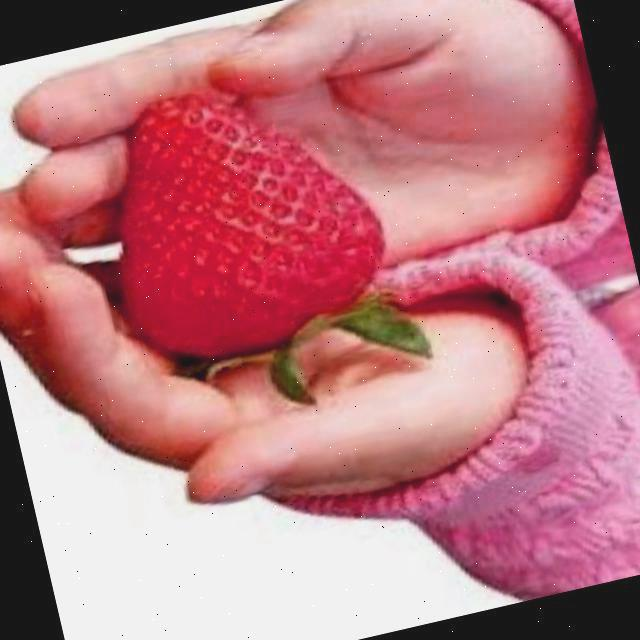ripe: (79, 55, 407, 381)
